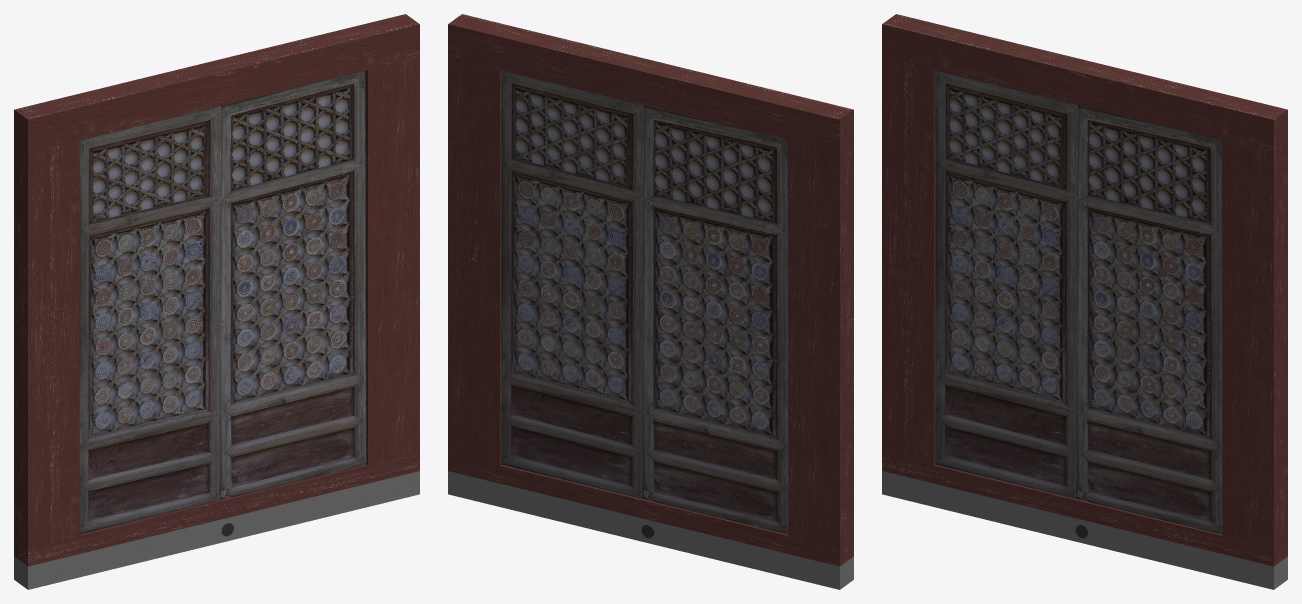
The model's file is SM_Ssang_Dae_Wall_A.fbx.
3 views of the same model, side by side, from view 1: azimuth 30°, elevation 25°; view 2: azimuth 150°, elevation 25°; view 3: azimuth 330°, elevation 25° (orthographic).
Visible parts, largest first — view 1: SM_Ssang_Dae_Wall_A; view 2: SM_Ssang_Dae_Wall_A; view 3: SM_Ssang_Dae_Wall_A.
Boxes of the visible parts, bbox=[...] form: SM_Ssang_Dae_Wall_A: bbox=[14, 14, 419, 589]; SM_Ssang_Dae_Wall_A: bbox=[448, 14, 853, 589]; SM_Ssang_Dae_Wall_A: bbox=[882, 14, 1287, 589].
Bounding box in the file's own units: 324 × 371 × 20.
